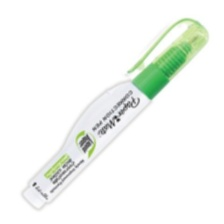correction_fluid: (21, 13, 212, 211)
